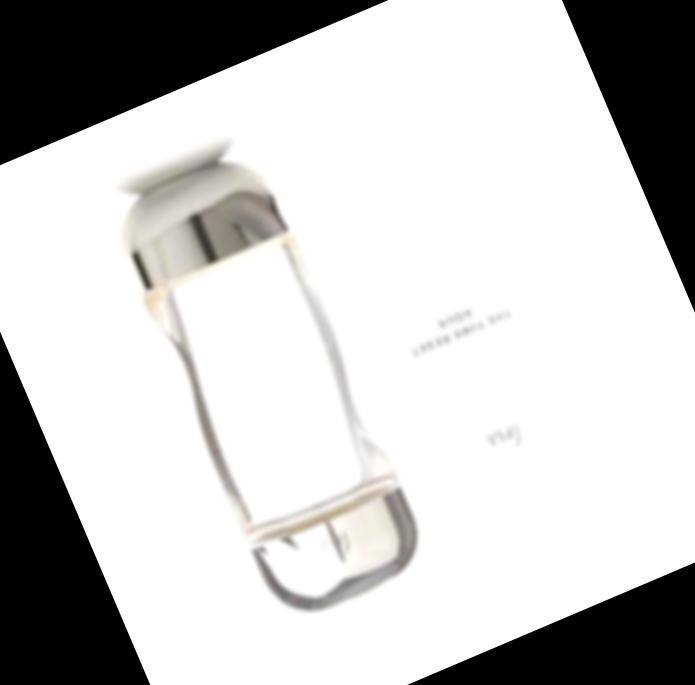cosmetic: (96, 141, 432, 630)
